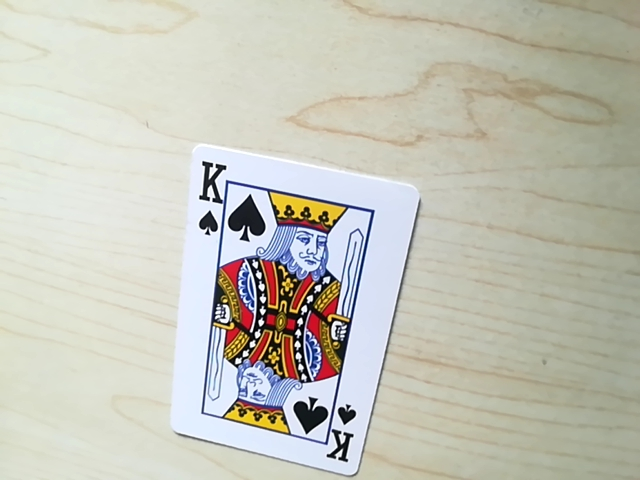ht k: (193, 156, 226, 239), (328, 398, 365, 471)
